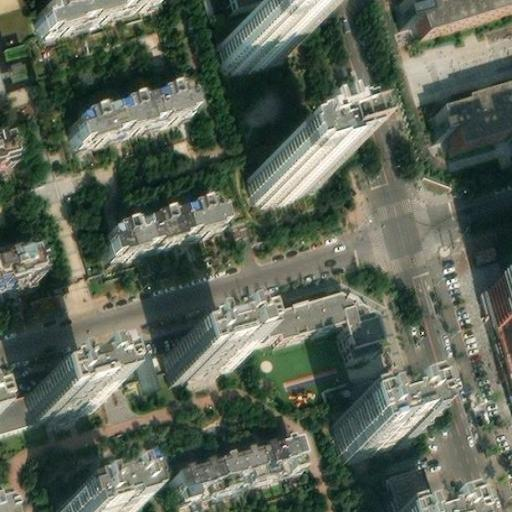building: (262, 282, 384, 351), (173, 436, 301, 500), (71, 81, 196, 143), (106, 196, 226, 255), (434, 80, 512, 149), (475, 286, 512, 412), (338, 404, 415, 459), (398, 0, 512, 36), (222, 10, 297, 63), (253, 141, 327, 194), (31, 366, 108, 415), (170, 326, 245, 371), (0, 248, 40, 285), (483, 267, 512, 313), (50, 493, 120, 512)
